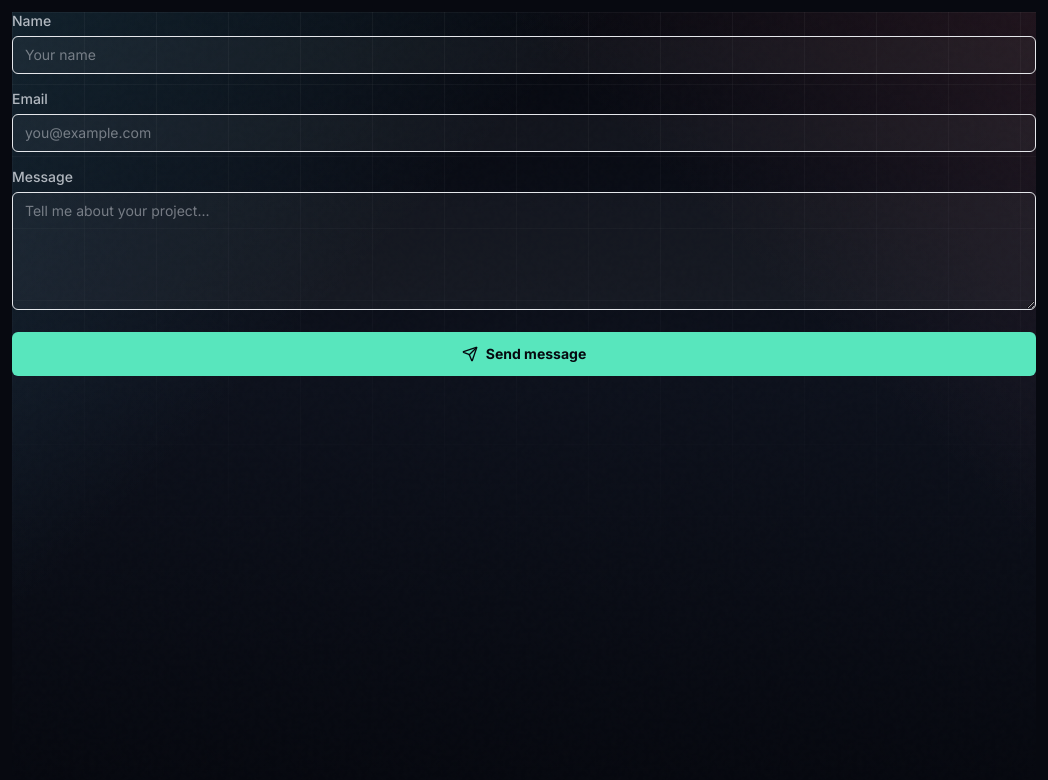
ContactForm › shows success message on successful submission
Type "John Doe" into the field labelled "Name" at [524, 55], box top-left (12, 36), bottom-right (1036, 74)
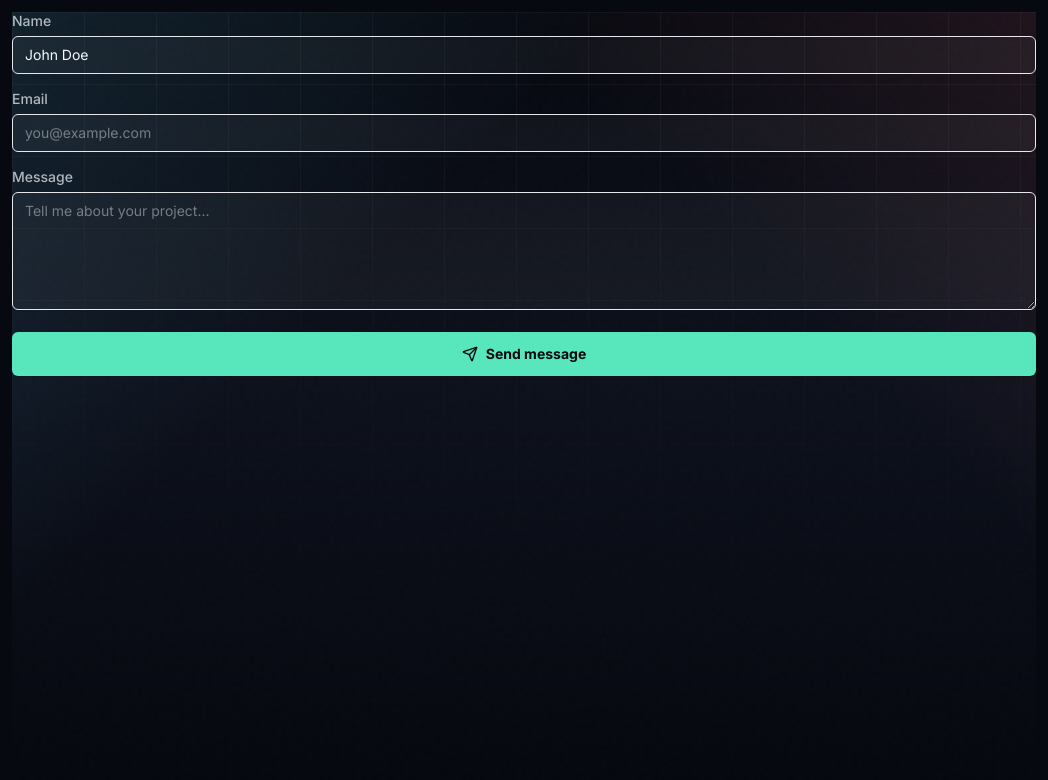
Type "john@example.com" into the field labelled "Email" at [524, 133], box top-left (12, 114), bottom-right (1036, 152)
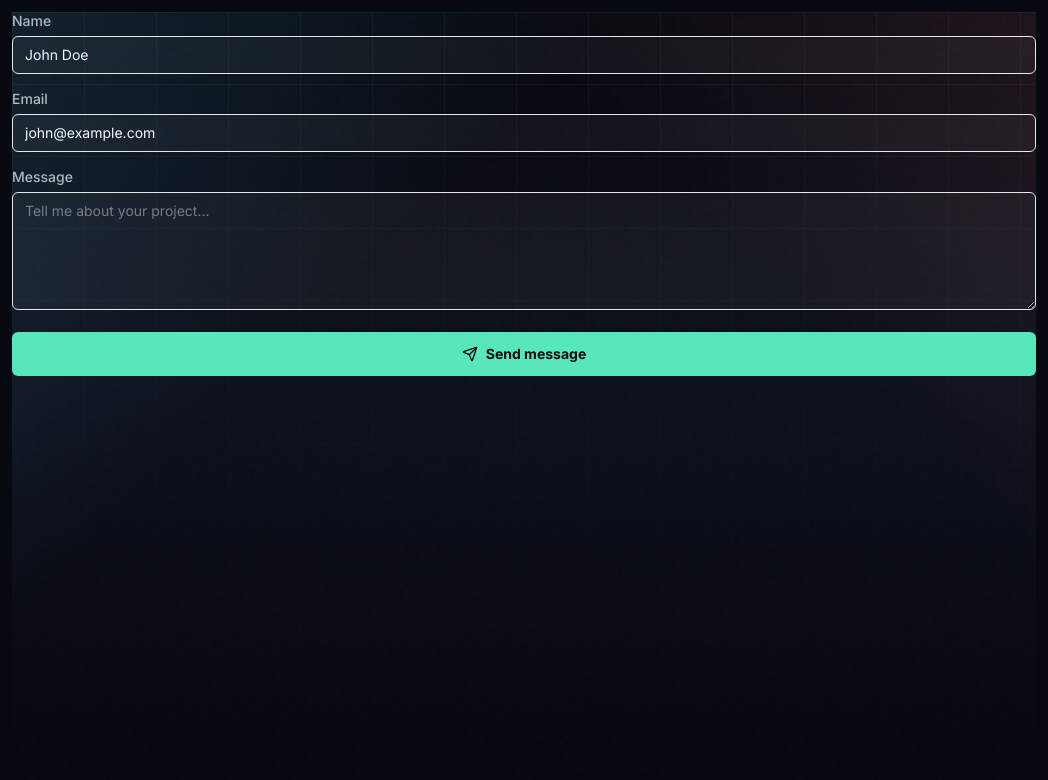
Type "Hello!" into the text box labelled "Message" at [524, 251], box top-left (12, 192), bottom-right (1036, 310)
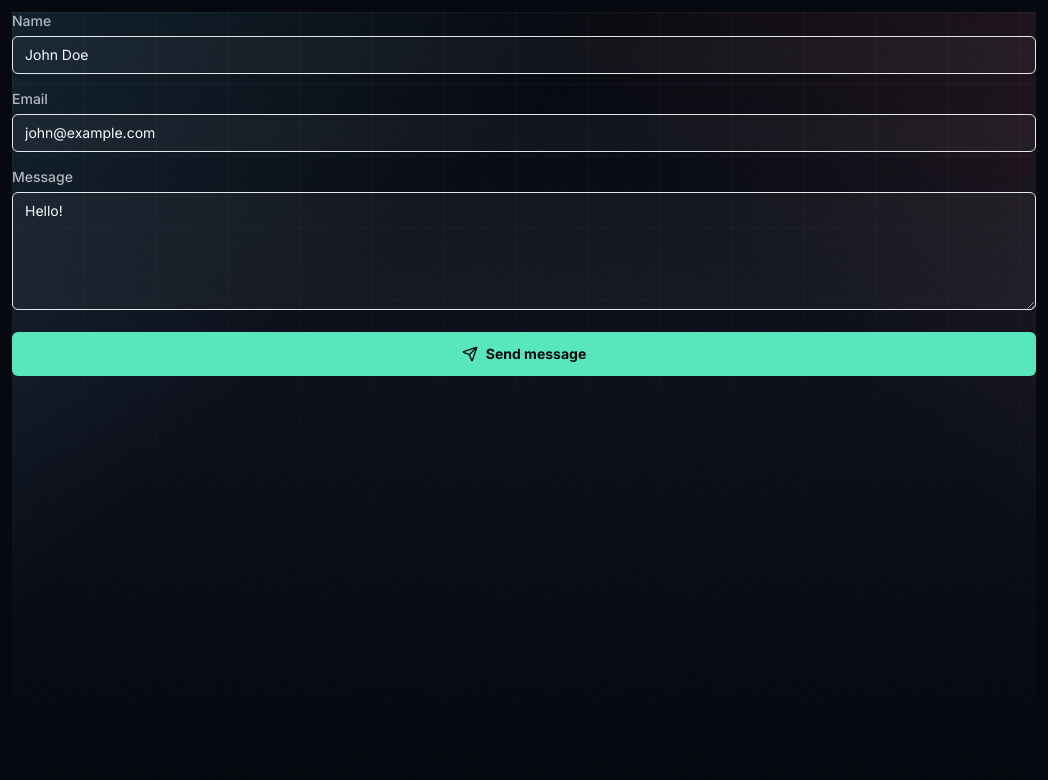
Click the button "Send message" at [524, 354], box top-left (12, 332), bottom-right (1036, 376)
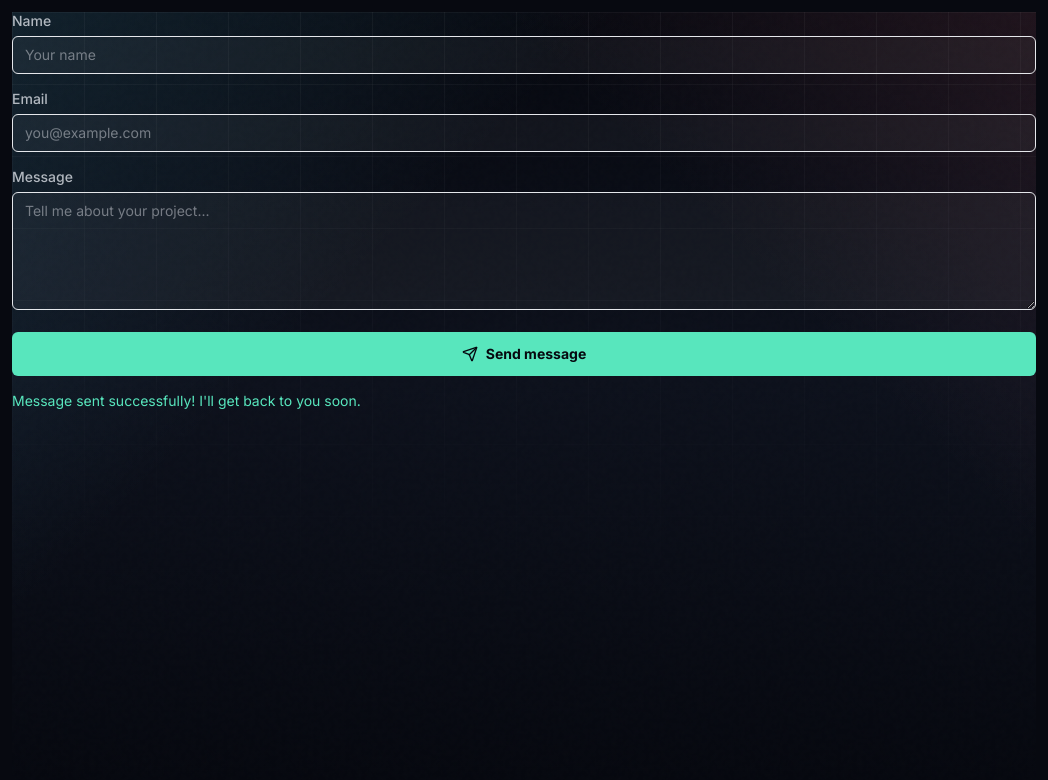
Result: the text "Message sent successfully! I'll get back to you soon." is shown at top-left (12, 393), bottom-right (361, 410)
